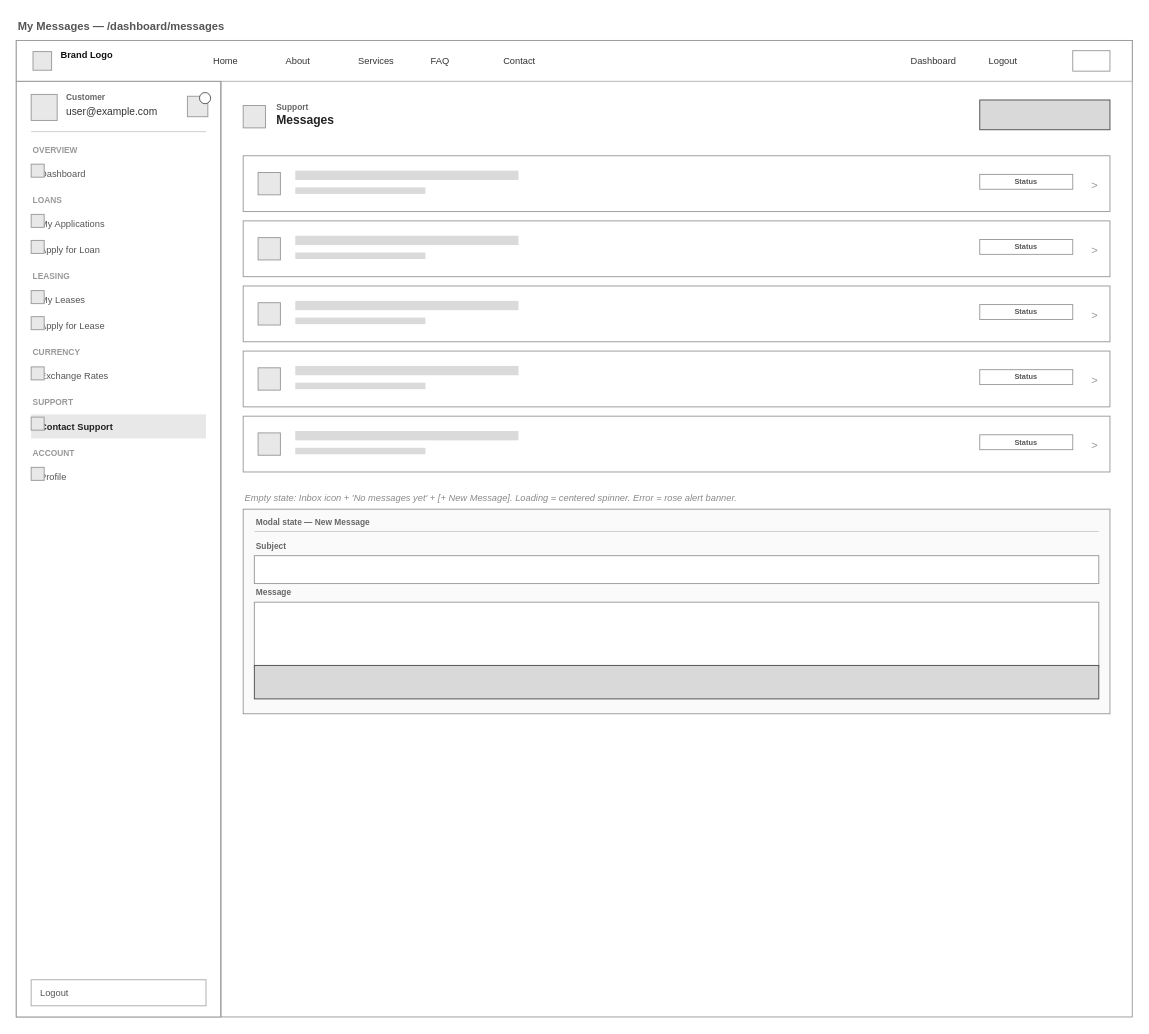
Image size: 1149x1034. Some labels were removed from this diagram. The centre of each missing label's shape, as x and y in pixels:
"+ New Message" belongs at pixel 1044 114.
"EN ▾" belongs at pixel 1091 60.
"Send Message" belongs at pixel 676 681.
